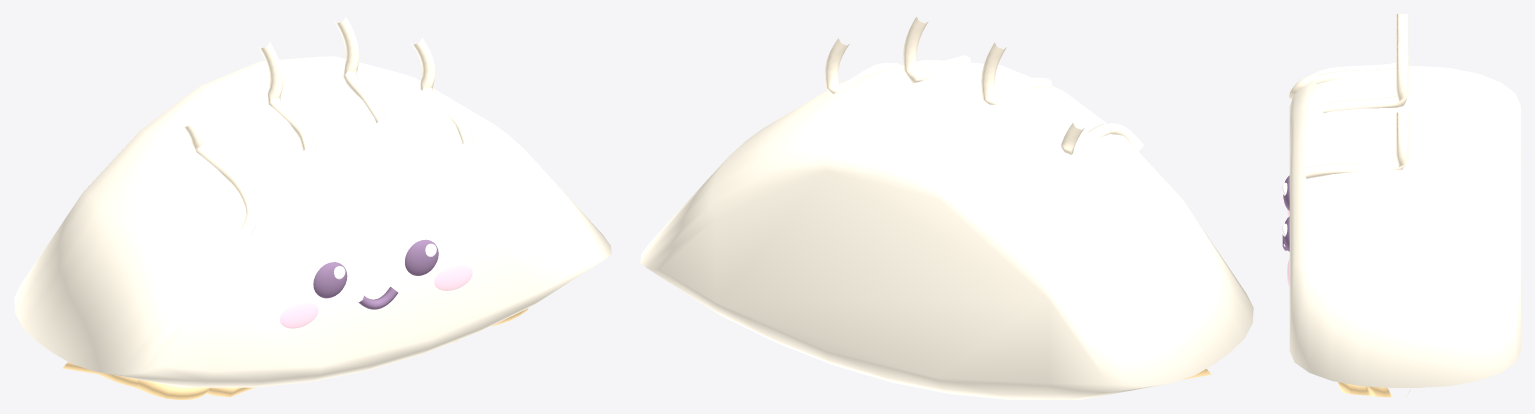
The model's file is squishy_gyoza.glb.
The picture shows the model from 3 angles, left to right: view 1: azimuth 30°, elevation 25°; view 2: azimuth 150°, elevation 25°; view 3: azimuth 270°, elevation 25°; orthographic projection. The views are drawn at different scales.
Visible parts, largest first — view 1: gyoza; view 2: gyoza; view 3: gyoza.
Part boxes in pixels (x1,y1,x2,y2): gyoza: (14, 17, 611, 399); gyoza: (640, 17, 1253, 399); gyoza: (1282, 14, 1520, 397).
Bounding box in the file's own units: 1.65 × 1 × 0.6942.
